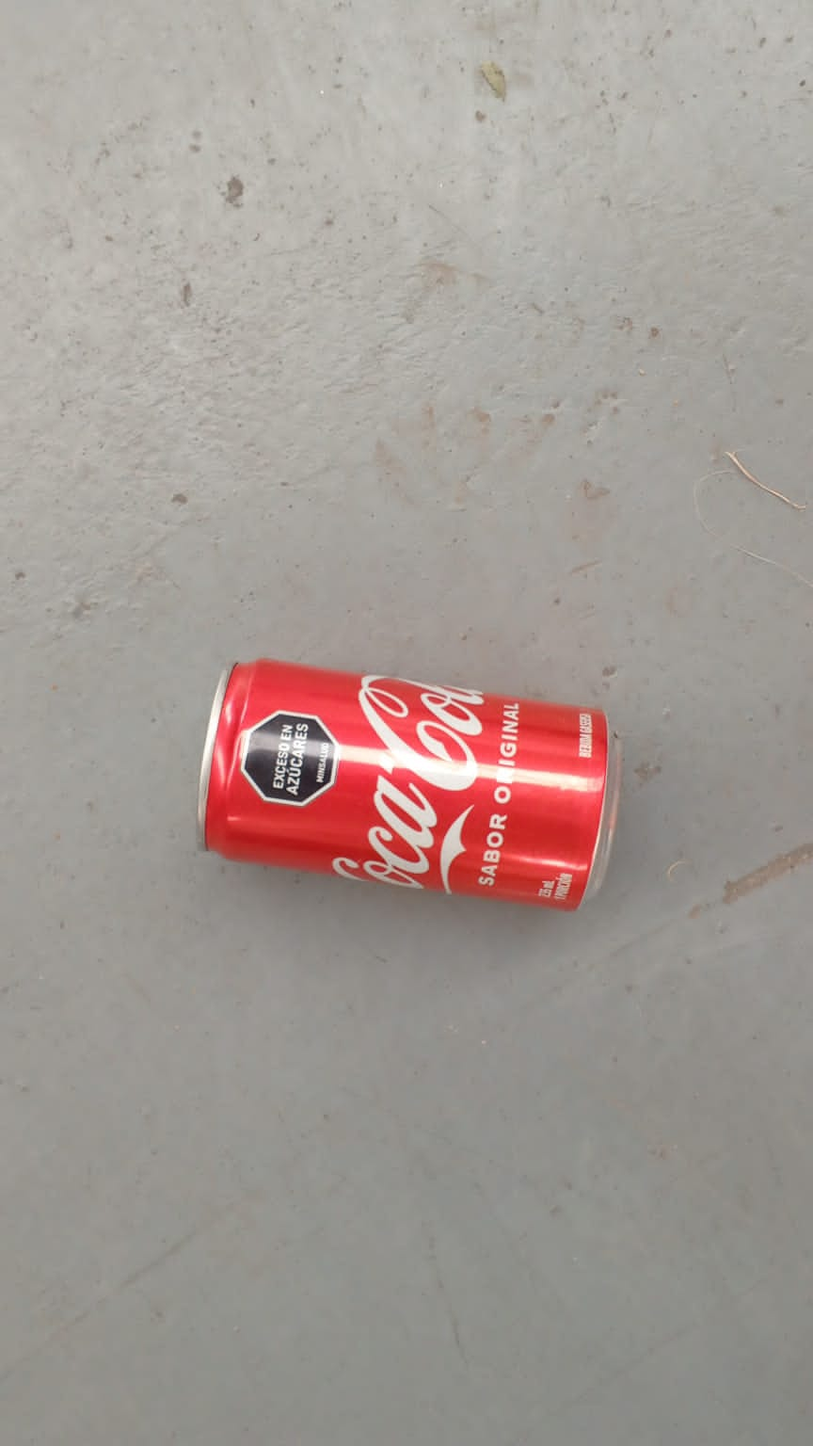Metal: (192, 661, 625, 914)
